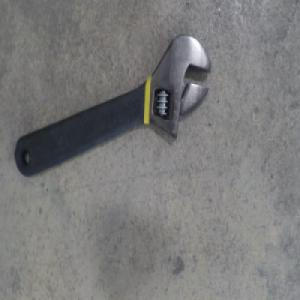AdjustableWrench: (17, 35, 214, 178)
